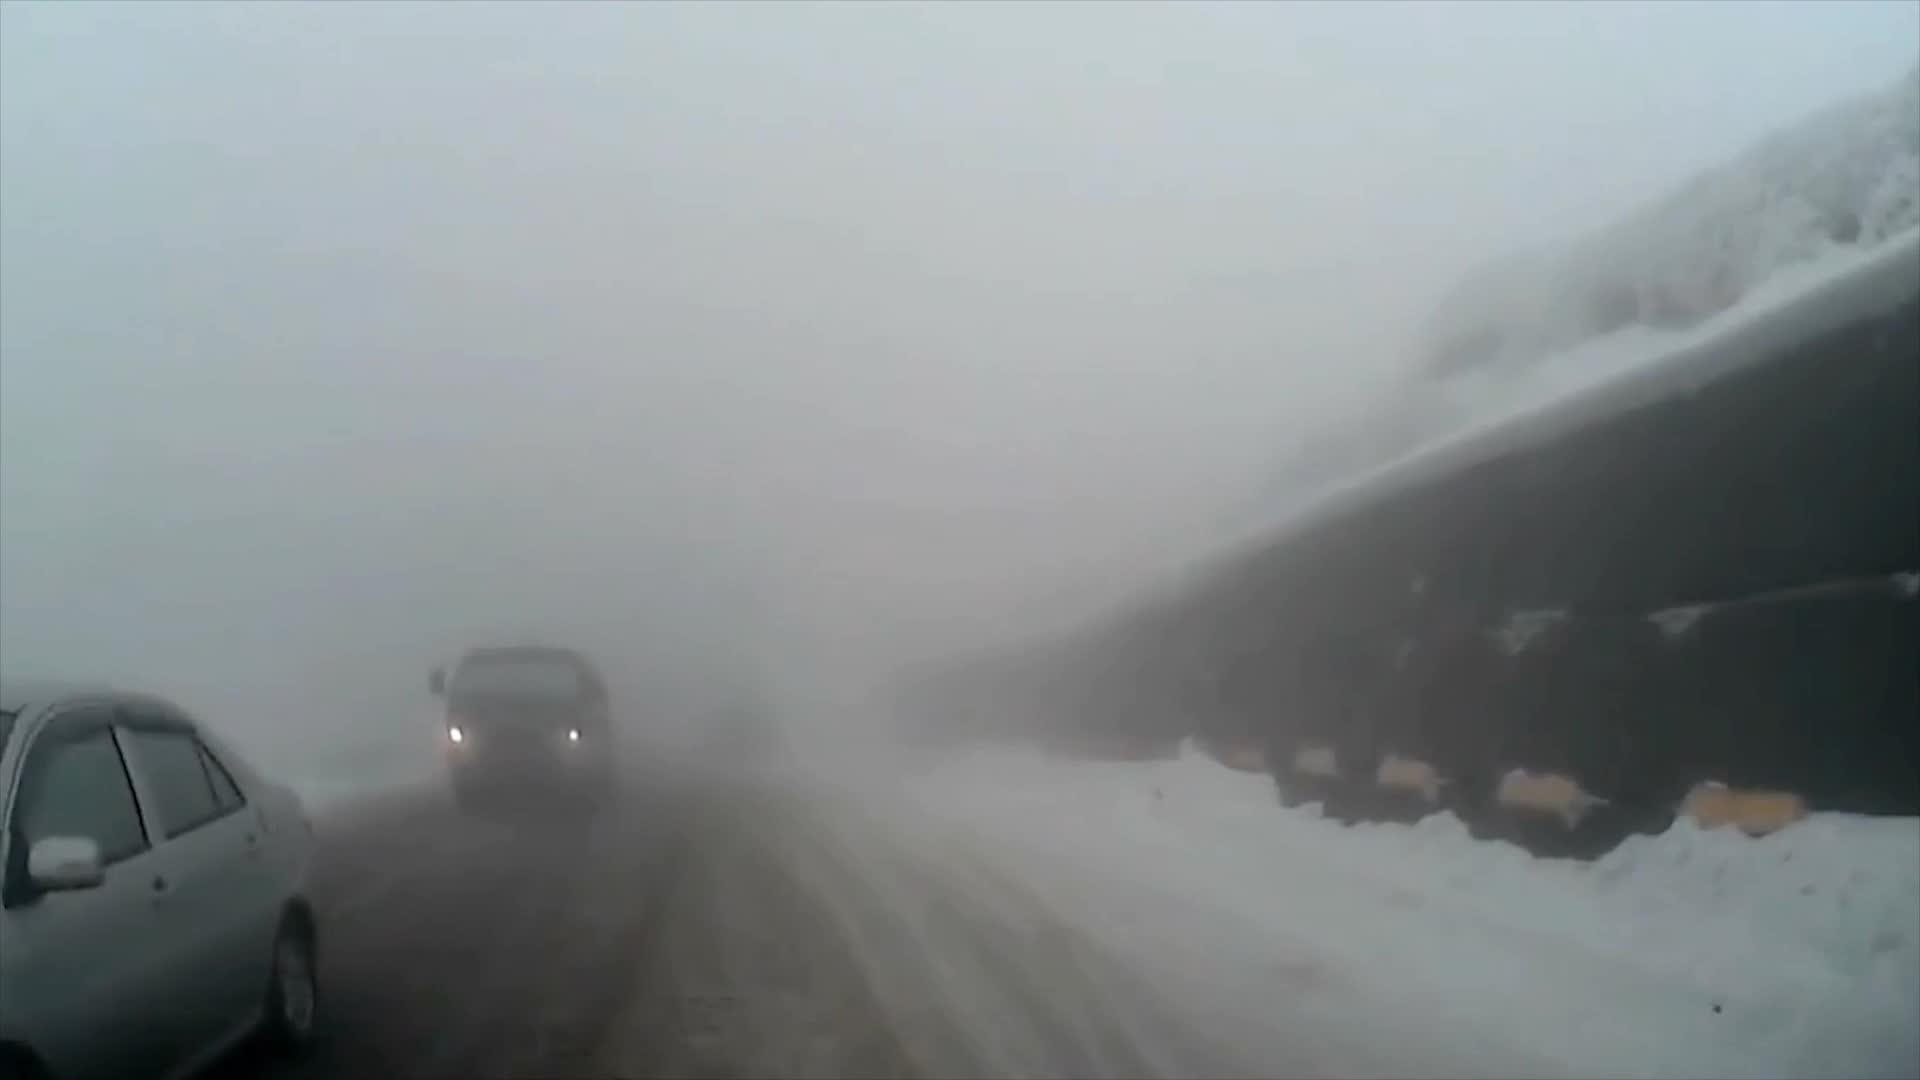vehicle: (0, 679, 320, 1080), (423, 640, 617, 812)
